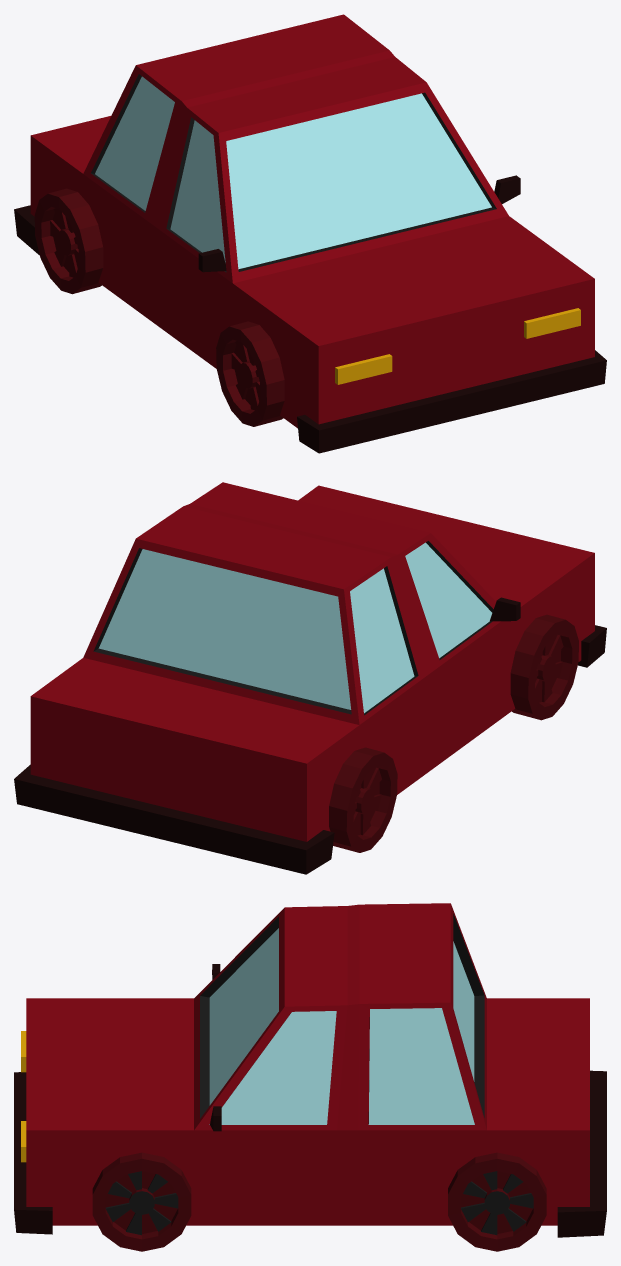
The model's file is carro.fbx.
3 renders of one model, top to bottom at view 1: azimuth 30°, elevation 25°; view 2: azimuth 150°, elevation 25°; view 3: azimuth 270°, elevation 25°, orthographic. The views are drawn at different scales.
Visible parts, largest first — view 1: Carro, Rodas.003, Rodas.001; view 2: Carro, Rodas.001, Rodas.003; view 3: Carro, Rodas, Rodas.002.
Boxes of the visible parts, <box> form: Carro: <box>14,14,606,453</box>; Rodas.003: <box>34,188,103,294</box>; Rodas.001: <box>216,321,284,426</box>; Carro: <box>14,482,606,874</box>; Rodas.001: <box>510,614,578,720</box>; Rodas.003: <box>329,747,397,852</box>; Carro: <box>14,903,606,1237</box>; Rodas: <box>92,1152,191,1251</box>; Rodas.002: <box>448,1152,546,1251</box>.
Bounding box in the file's own units: 180 × 125 × 297.
